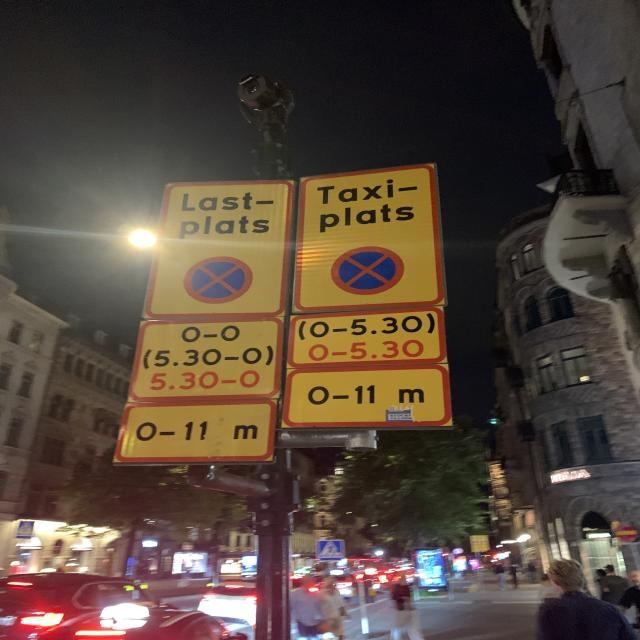lastplats: (139, 176, 296, 319)
